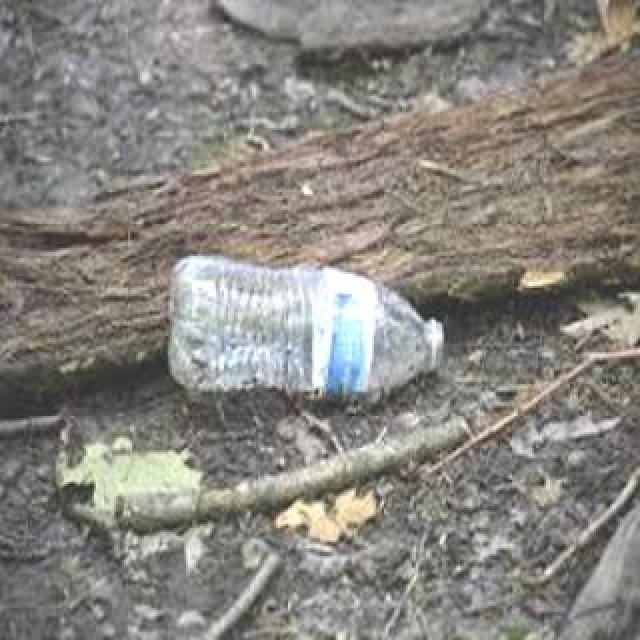Pet_Bottle: (167, 253, 447, 393)
